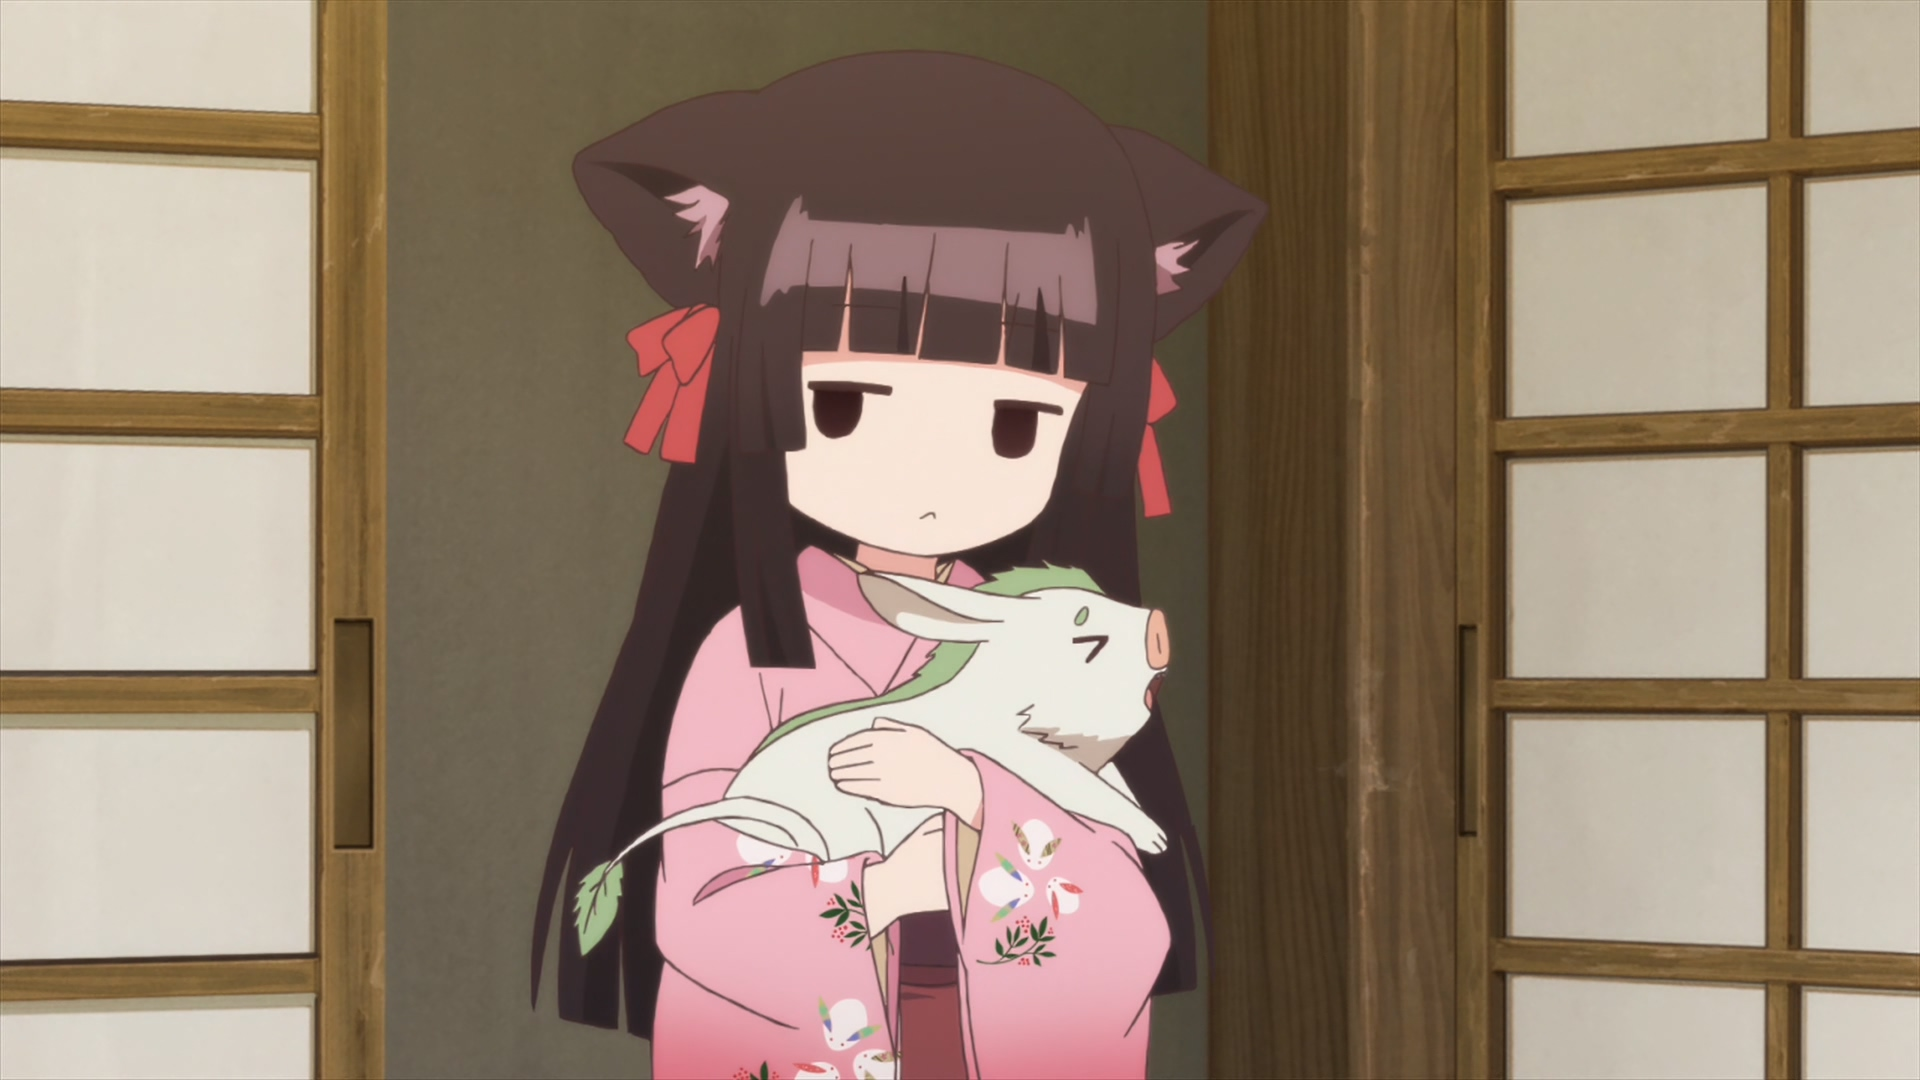樱: (529, 51, 1273, 1080)
瓜之介: (572, 560, 1172, 957)
